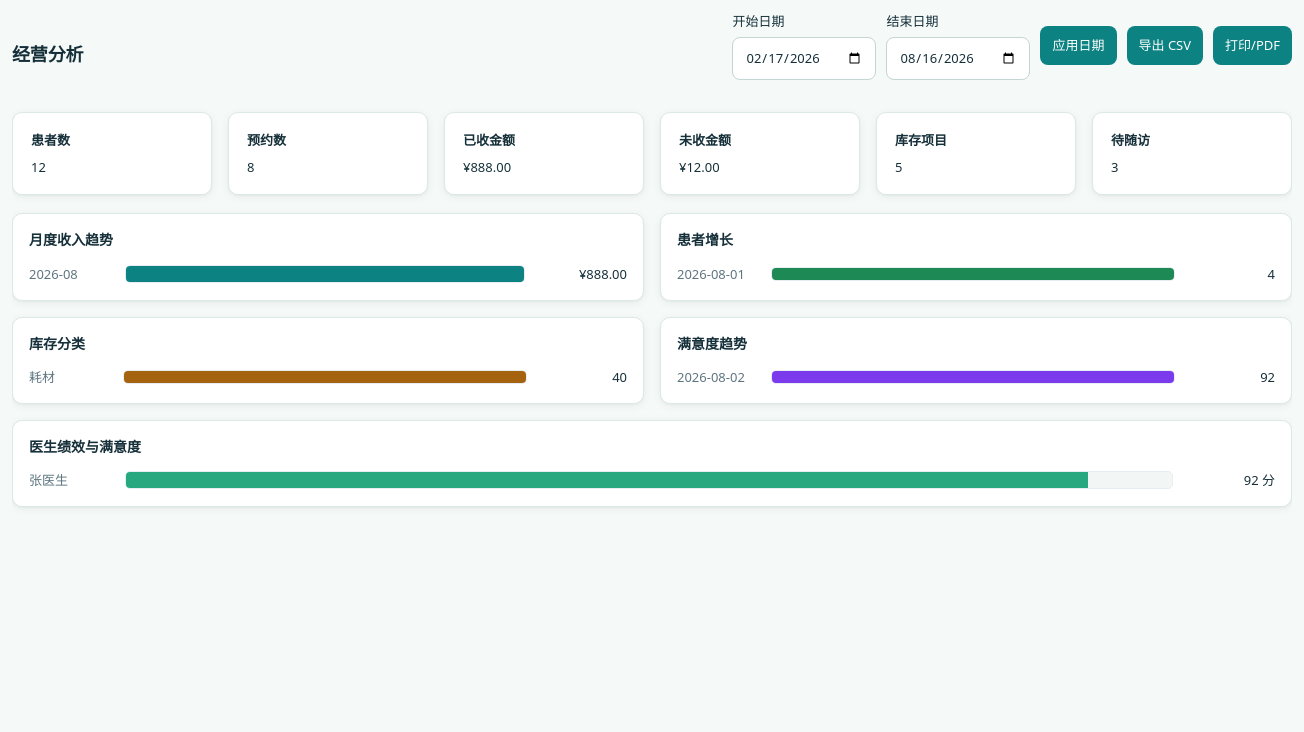
Test: AnalyticsDashboardPage › shows a toast when the print window is blocked
Check: the heading "月度收入趋势" is shown, box [29,230,113,249]
Click the button "打印/PDF": (1252, 46) [1213,26,1292,65]
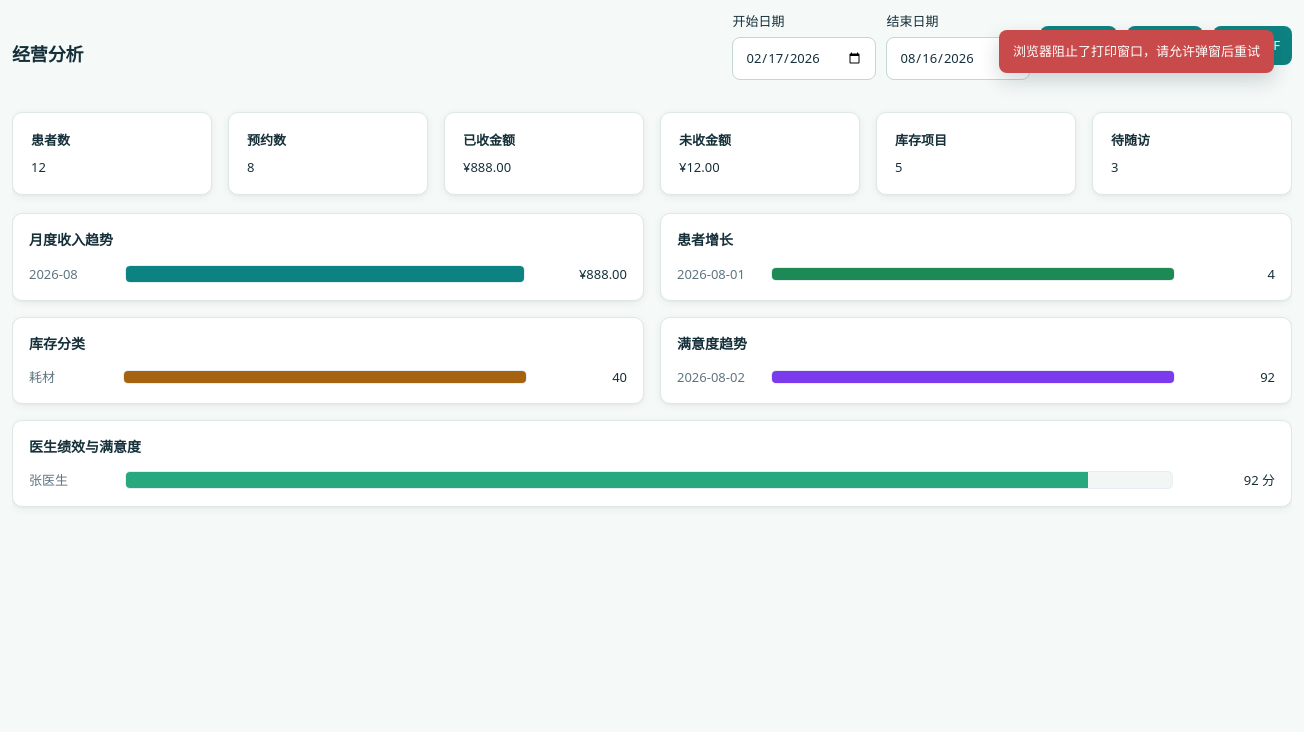
Check: the text "浏览器阻止了打印窗口，请允许弹窗后重试" is shown, box [999,30,1274,73]
